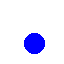circle: (24, 33, 44, 53)
